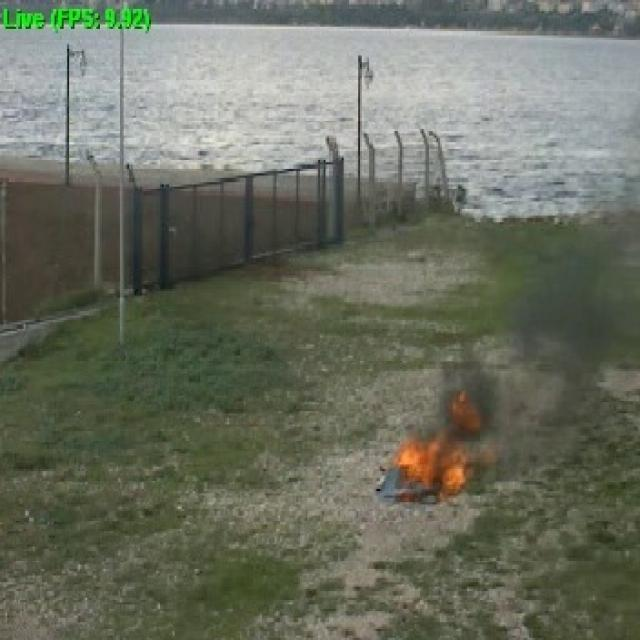fire: (402, 444, 475, 499)
smoke: (529, 262, 594, 380)
